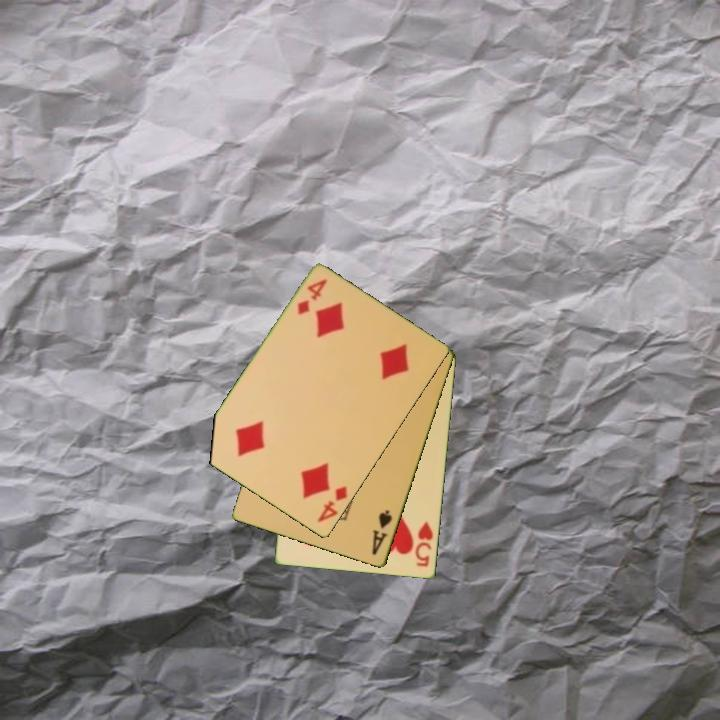4d: (314, 483, 351, 526), (294, 276, 330, 318)
5h: (412, 518, 436, 570)
As: (369, 507, 395, 558)
